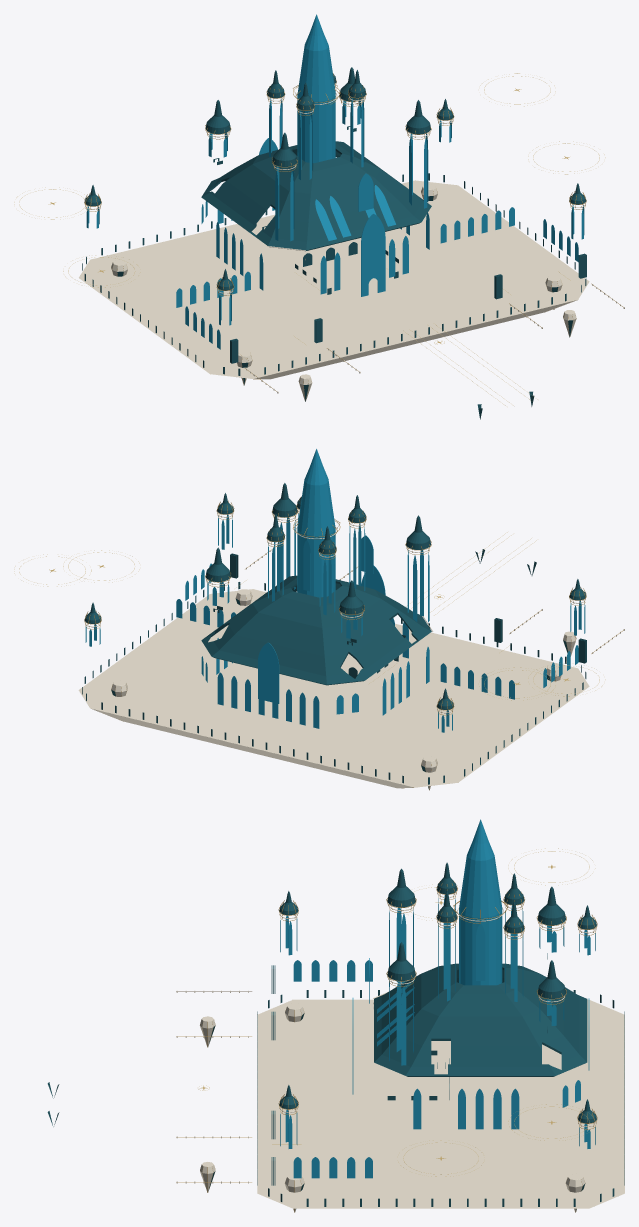
File: Spaceport-05.glb
3 views of the same model, one above another, from view 1: azimuth 30°, elevation 25°; view 2: azimuth 150°, elevation 25°; view 3: azimuth 270°, elevation 25° (orthographic). The views are drawn at different scales.
Parts seen in each view (by area): view 1: NSP01.Native.5.2.Ivory, NSP01.Native.5.3.Teal, NSP01.Native.5.1.CeremonialGlass, NSP01.Native.5.0.Gold, NSP01.Native.5.4.Marking; view 2: NSP01.Native.5.2.Ivory, NSP01.Native.5.3.Teal, NSP01.Native.5.1.CeremonialGlass, NSP01.Native.5.0.Gold, NSP01.Native.5.4.Marking; view 3: NSP01.Native.5.2.Ivory, NSP01.Native.5.3.Teal, NSP01.Native.5.1.CeremonialGlass, NSP01.Native.5.0.Gold.
Part boxes in pixels (left/top/right/bottom): NSP01.Native.5.2.Ivory: left=79, top=84, right=624, bottom=401; NSP01.Native.5.3.Teal: left=82, top=67, right=586, bottom=419; NSP01.Native.5.1.CeremonialGlass: left=86, top=14, right=584, bottom=349; NSP01.Native.5.0.Gold: left=84, top=73, right=624, bottom=399; NSP01.Native.5.4.Marking: left=14, top=73, right=605, bottom=405; NSP01.Native.5.2.Ivory: left=78, top=508, right=624, bottom=789; NSP01.Native.5.3.Teal: left=82, top=483, right=586, bottom=788; NSP01.Native.5.1.CeremonialGlass: left=85, top=449, right=585, bottom=732; NSP01.Native.5.0.Gold: left=84, top=497, right=623, bottom=790; NSP01.Native.5.4.Marking: left=14, top=532, right=605, bottom=700; NSP01.Native.5.2.Ivory: left=176, top=892, right=624, bottom=1212; NSP01.Native.5.3.Teal: left=47, top=862, right=624, bottom=1209; NSP01.Native.5.1.CeremonialGlass: left=280, top=819, right=595, bottom=1178; NSP01.Native.5.0.Gold: left=176, top=881, right=597, bottom=1212.
Bounding box in the file's own units: 700 × 356 × 618.
